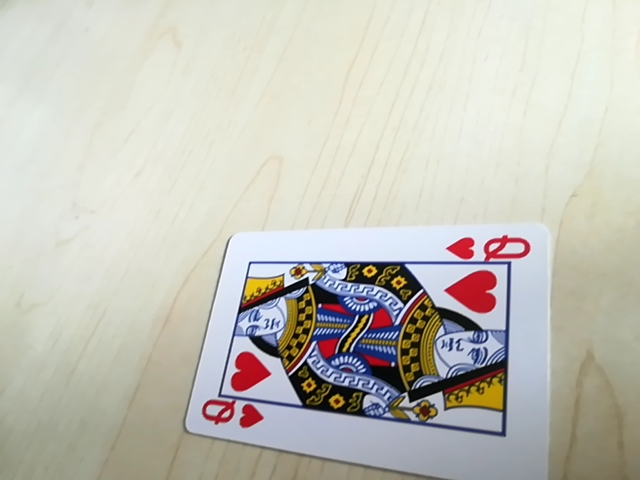hx q: (445, 229, 535, 266), (198, 395, 262, 434)
